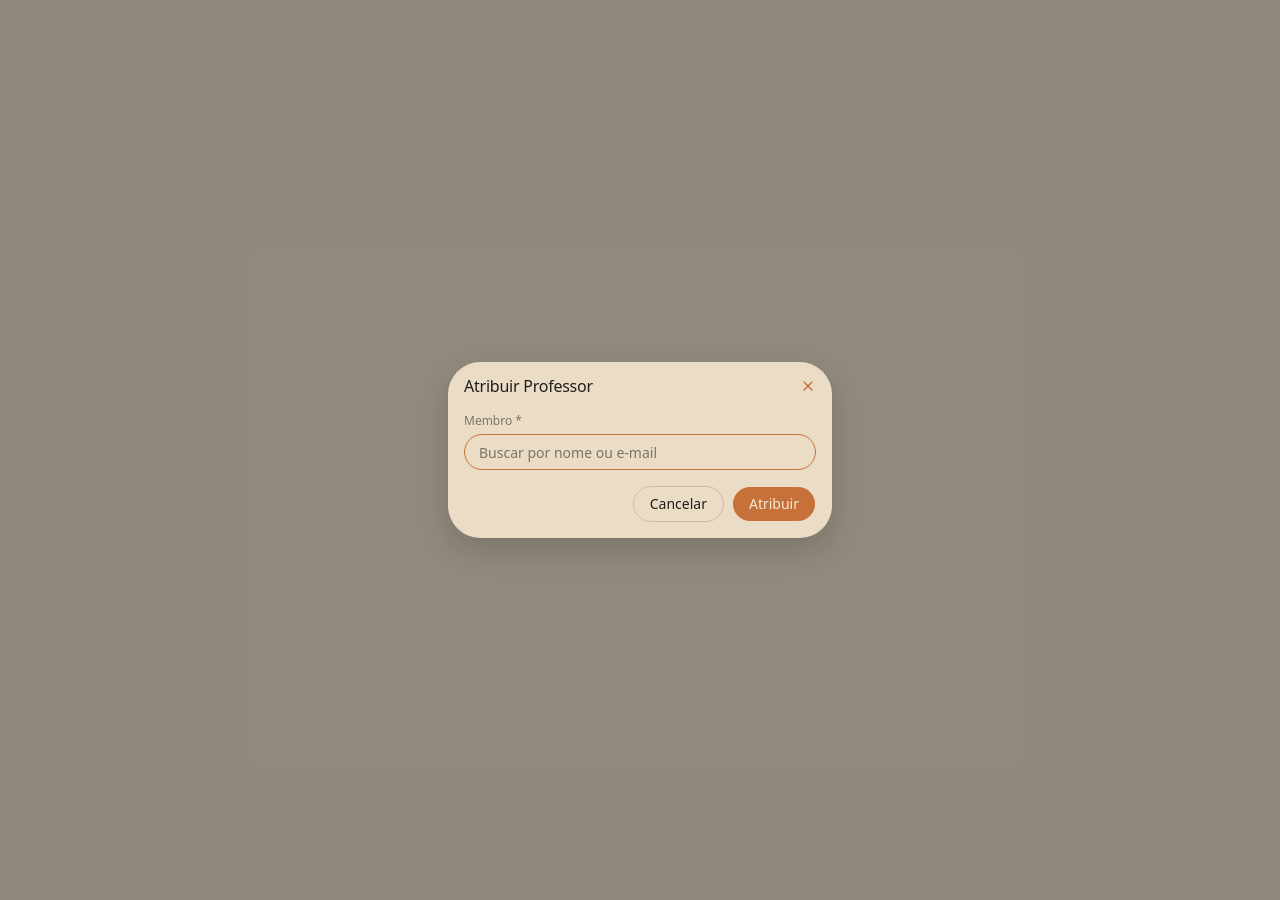
Test case: AssignTeacherDialog › does not submit without a choice
Click the button "Atribuir": (774, 504) left=732, top=486, right=816, bottom=522
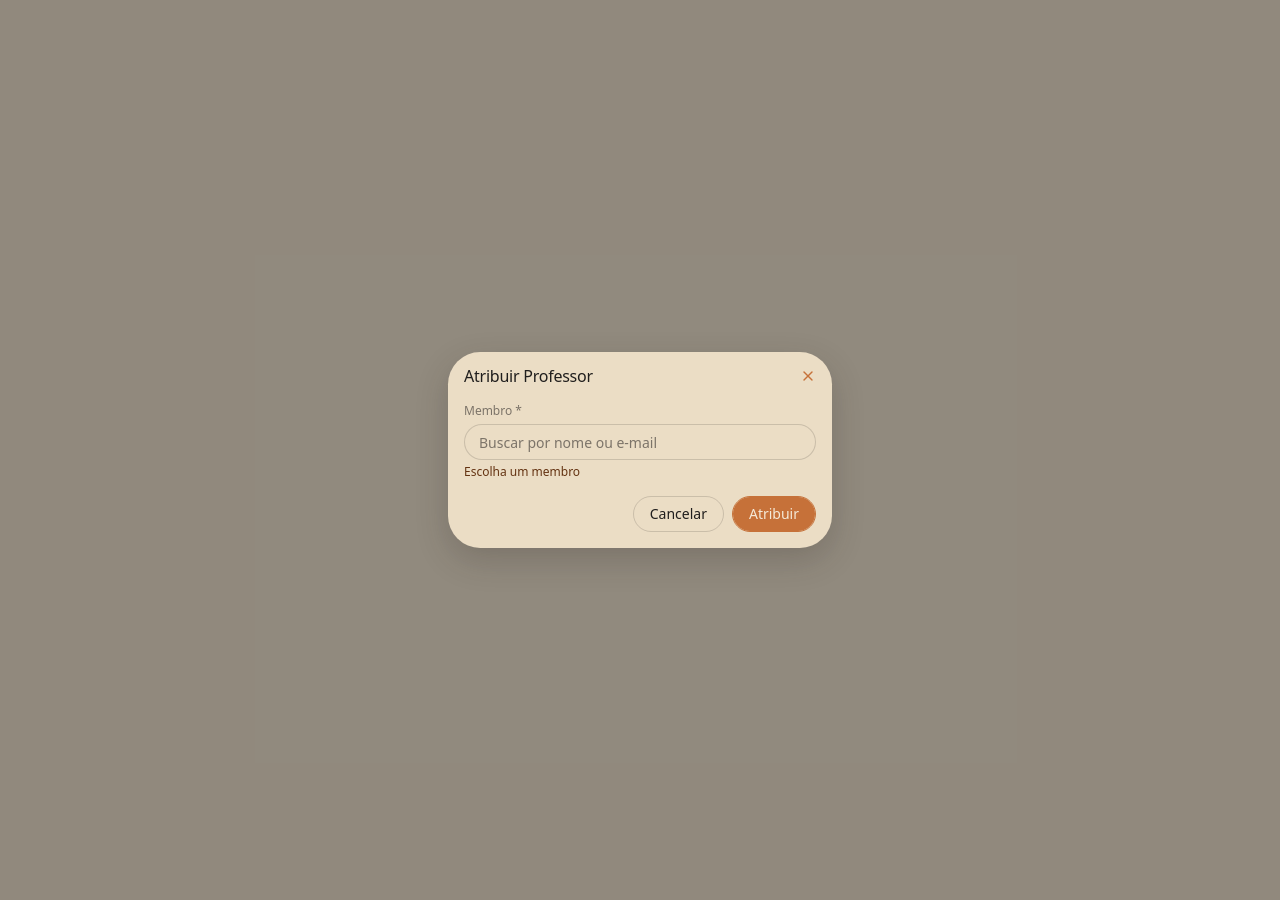
Now the text "Escolha um membro" is shown, box left=464, top=463, right=580, bottom=480
